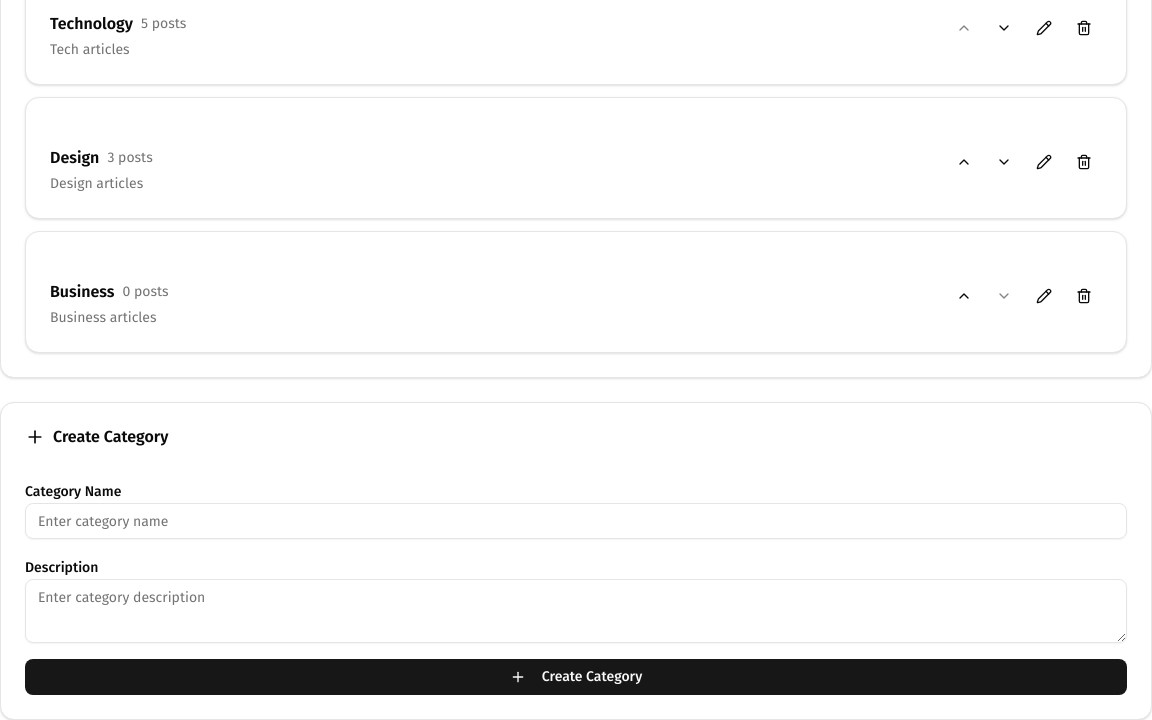
Test: CategoryManager › Create Category › should validate required fields before creation
Step 1. Click the button "Create Category" → (576, 677), box [25,659,1127,695]
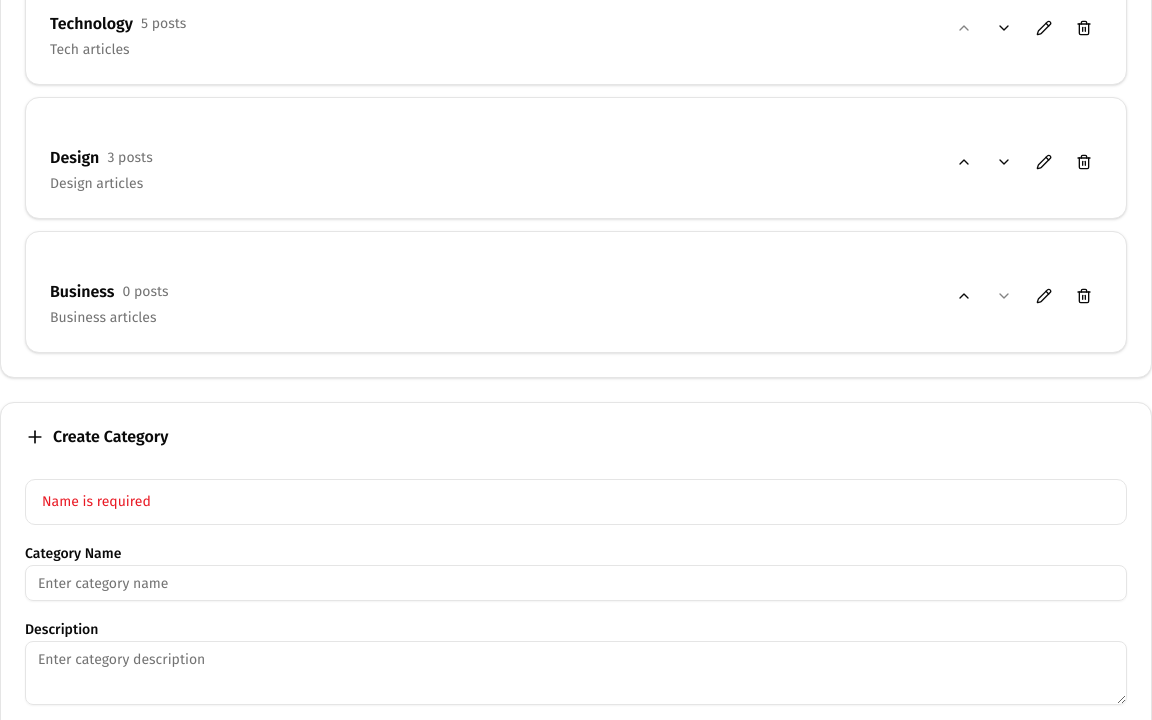
Expected: the text "Name is required" is shown, [42,493,151,510]
